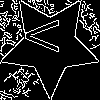V: (25, 19, 68, 53)
